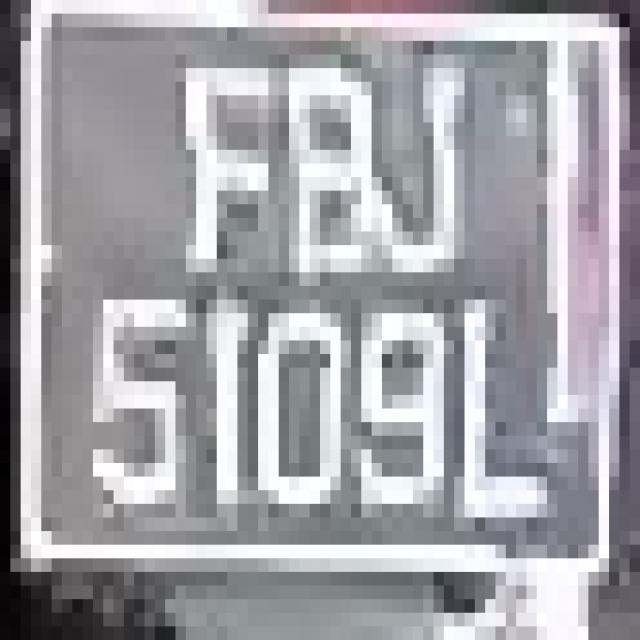0: (238, 258, 340, 544)
1: (207, 245, 258, 545)
5: (72, 259, 176, 531)
9: (341, 272, 454, 558)
B: (258, 41, 382, 340)
F: (155, 27, 279, 313)
J: (382, 41, 495, 313)
L: (444, 272, 568, 558)
